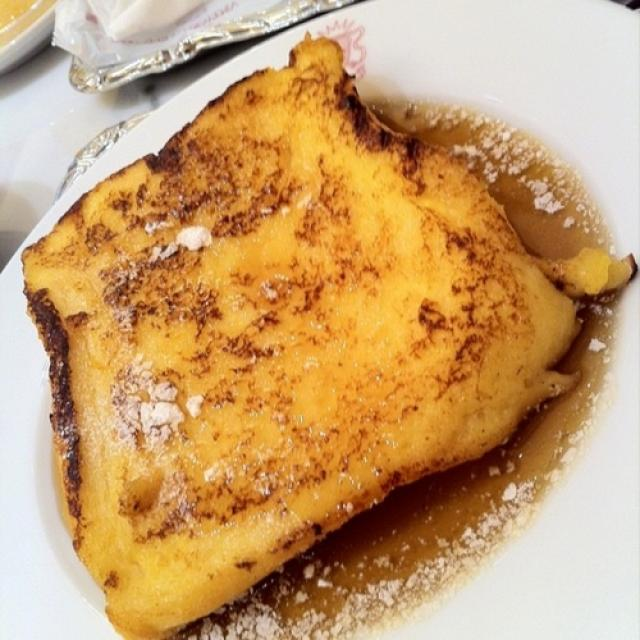面包点心: (11, 45, 612, 631)
